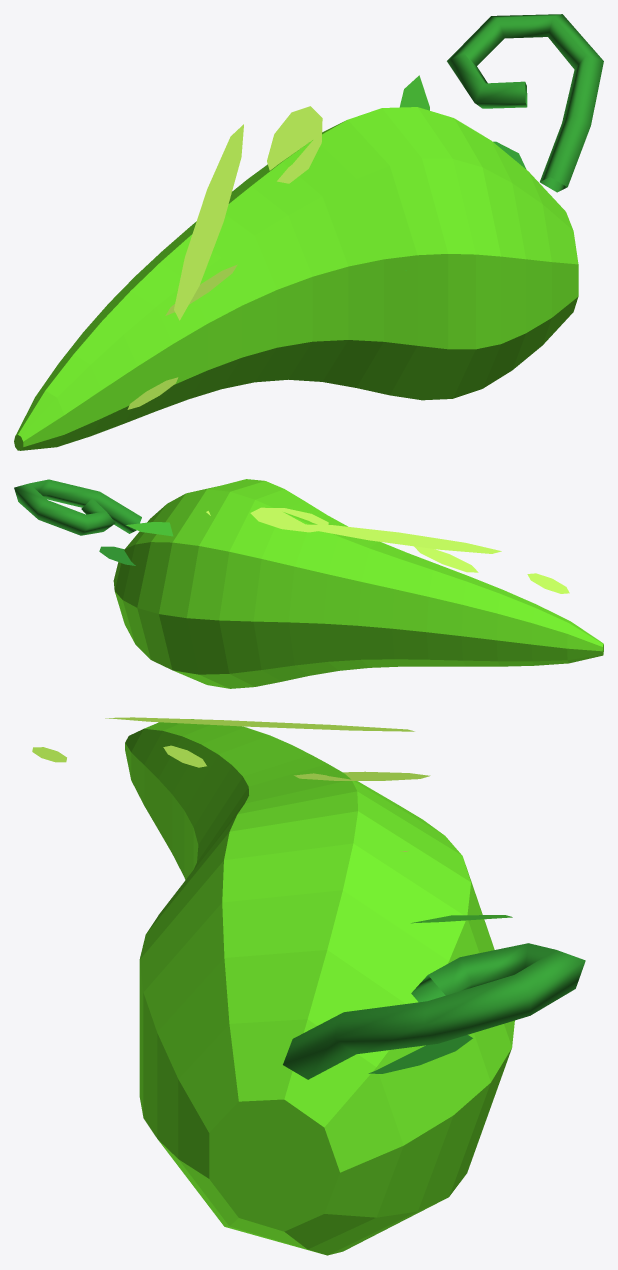
File: chili_green_low_poly.glb
The picture shows the model from 3 angles, top to bottom: view 1: azimuth 30°, elevation 25°; view 2: azimuth 150°, elevation 25°; view 3: azimuth 270°, elevation 25°; orthographic projection. The views are drawn at different scales.
Parts seen in each view (by area): view 1: true_chili_body_low_poly, curled_chili_stem_low_poly, long_green_highlight, upper_green_highlight, right_green_shadow; view 2: true_chili_body_low_poly, curled_chili_stem_low_poly, long_green_highlight, upper_green_highlight, lower_green_highlight, right_green_shadow, tip_green_highlight, round_green_stem_base; view 3: true_chili_body_low_poly, curled_chili_stem_low_poly, long_green_highlight, round_green_stem_base, upper_green_highlight.
Part boxes in pixels (x1,y1,x2,y2): true_chili_body_low_poly: (14, 107, 578, 450); curled_chili_stem_low_poly: (447, 14, 603, 192); long_green_highlight: (174, 124, 243, 320); upper_green_highlight: (267, 106, 322, 183); right_green_shadow: (399, 75, 429, 270); true_chili_body_low_poly: (113, 479, 603, 688); curled_chili_stem_low_poly: (14, 479, 141, 535); long_green_highlight: (300, 524, 501, 553); upper_green_highlight: (250, 507, 328, 532); lower_green_highlight: (414, 546, 478, 572); right_green_shadow: (126, 522, 173, 536); tip_green_highlight: (527, 573, 569, 593); round_green_stem_base: (99, 546, 135, 565); true_chili_body_low_poly: (125, 719, 514, 1255); curled_chili_stem_low_poly: (283, 943, 585, 1079); long_green_highlight: (105, 717, 414, 731); round_green_stem_base: (368, 1035, 472, 1073); upper_green_highlight: (294, 771, 430, 780).
Bounding box in the file's own units: 2.86 × 1.11 × 1.39.
